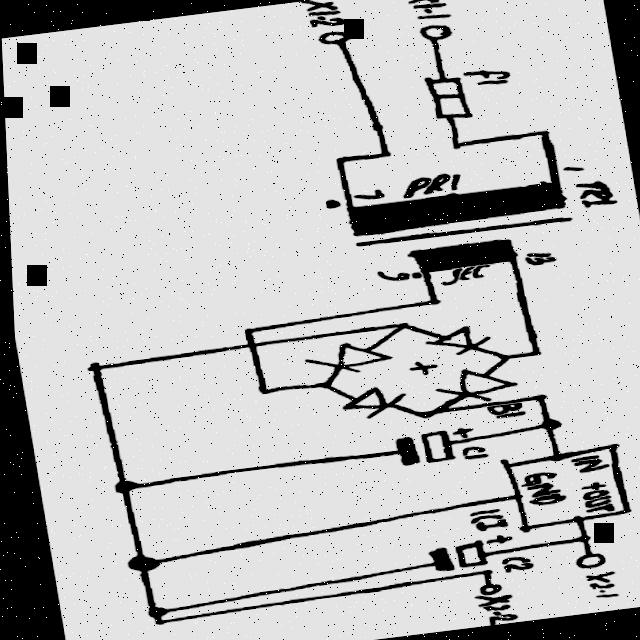capacitor: (385, 423, 474, 467), (418, 531, 512, 572)
crossover: (240, 339, 259, 349)
diode: (291, 337, 397, 378), (422, 364, 525, 402), (325, 379, 411, 422), (415, 321, 493, 357)
junction: (121, 552, 156, 572), (107, 477, 135, 493), (533, 416, 559, 430), (567, 531, 591, 543), (140, 604, 162, 616), (410, 407, 431, 419), (311, 378, 332, 389), (448, 138, 467, 150), (252, 384, 272, 395), (82, 360, 102, 371), (329, 153, 348, 164), (389, 320, 409, 330), (375, 148, 394, 158), (534, 126, 553, 136), (236, 325, 255, 335), (527, 391, 545, 401), (492, 351, 510, 361), (144, 616, 162, 626), (525, 347, 542, 357), (423, 296, 439, 305), (474, 566, 489, 575)
terminal: (416, 21, 453, 41), (567, 549, 603, 569), (317, 27, 357, 45), (469, 580, 499, 595)
text: (512, 467, 563, 506), (397, 170, 460, 198), (469, 589, 511, 625), (572, 478, 613, 514), (572, 177, 616, 209), (299, 0, 348, 28), (435, 263, 491, 286), (458, 64, 512, 87), (577, 569, 616, 599), (462, 506, 504, 533), (405, 0, 451, 22), (563, 451, 606, 474), (396, 356, 437, 377), (481, 400, 523, 419), (494, 553, 528, 573), (373, 265, 410, 283), (520, 248, 555, 265), (350, 186, 386, 202), (455, 442, 486, 460), (558, 161, 586, 174)
transformer: (339, 177, 582, 281)
